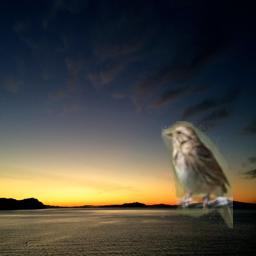Sparrow: (161, 121, 233, 228)
